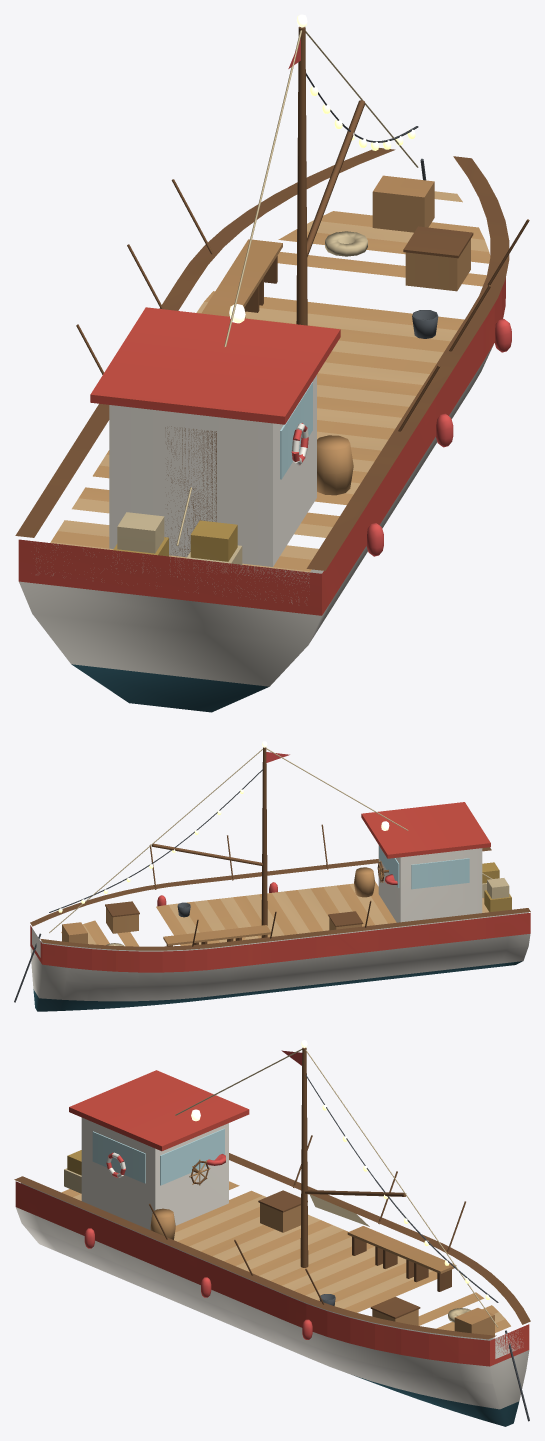
File: sea.glb
The picture shows the model from 3 angles, top to bottom: view 1: azimuth 30°, elevation 25°; view 2: azimuth 150°, elevation 25°; view 3: azimuth 270°, elevation 25°; orthographic projection. The views are drawn at different scales.
Parts seen in each view (by area): view 1: Sea_Static; view 2: Sea_Static; view 3: Sea_Static.
Boxes of the visible parts, x1,y1,x2,y2 form: Sea_Static: [15, 14, 529, 712]; Sea_Static: [14, 741, 530, 1011]; Sea_Static: [14, 1040, 530, 1426].
Size of what is drawn, in the model's own units: 9.44 by 6.01 by 9.44.
